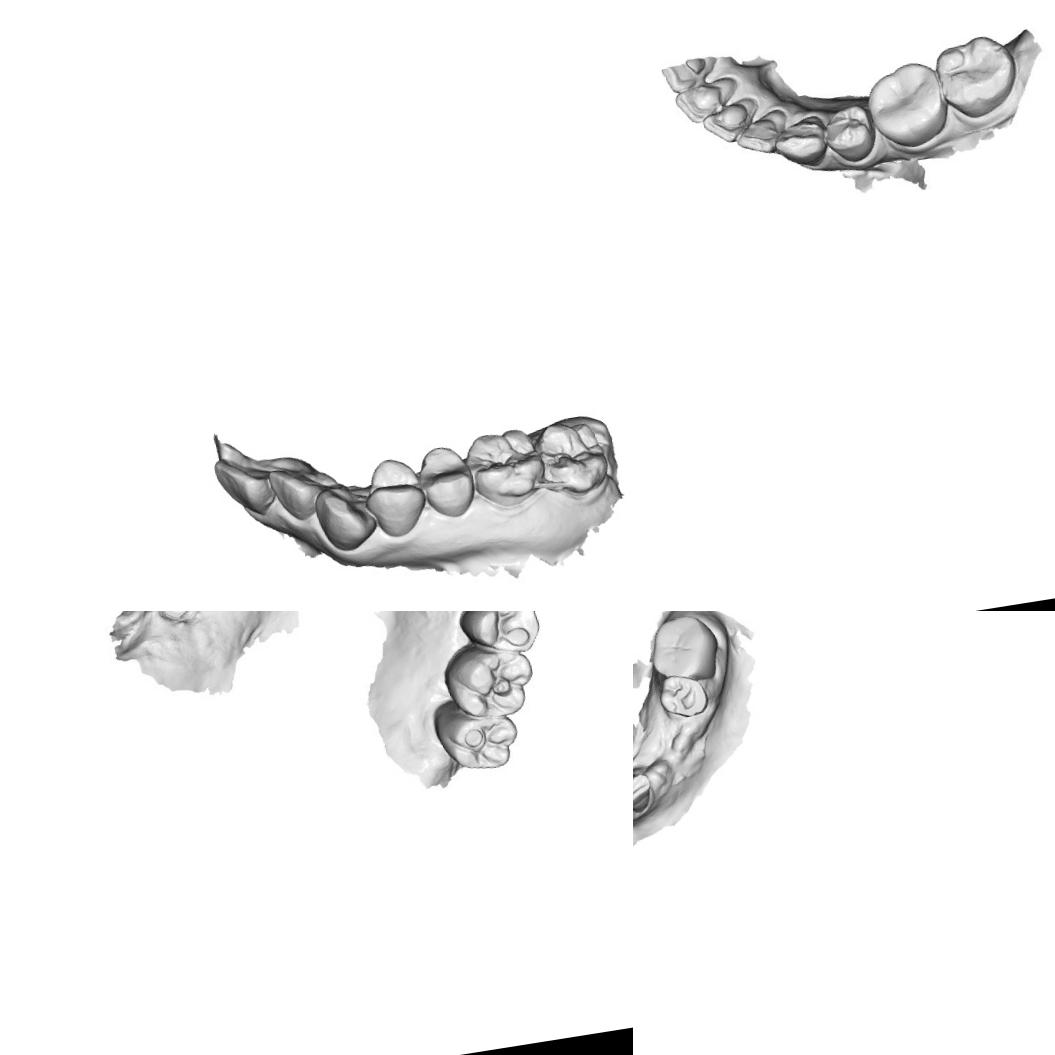canine: (311, 481, 378, 554), (770, 113, 830, 168)
implant: (156, 611, 197, 628)
incisor: (212, 451, 280, 519), (269, 461, 325, 522), (698, 97, 759, 151), (672, 75, 732, 128), (729, 106, 790, 158), (633, 769, 655, 817)
molar: (860, 57, 955, 159), (928, 29, 1024, 124), (438, 635, 538, 721), (430, 691, 522, 781), (533, 410, 619, 500), (463, 423, 550, 510), (643, 611, 724, 689)
premolar: (360, 456, 430, 540), (416, 439, 480, 522), (817, 96, 880, 168), (450, 611, 542, 660), (654, 668, 711, 724)
